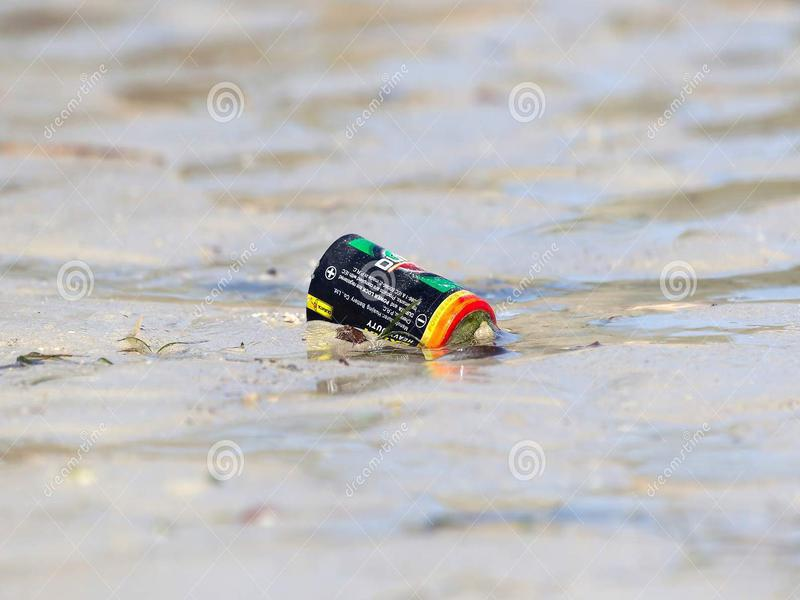battery: (295, 221, 511, 359)
